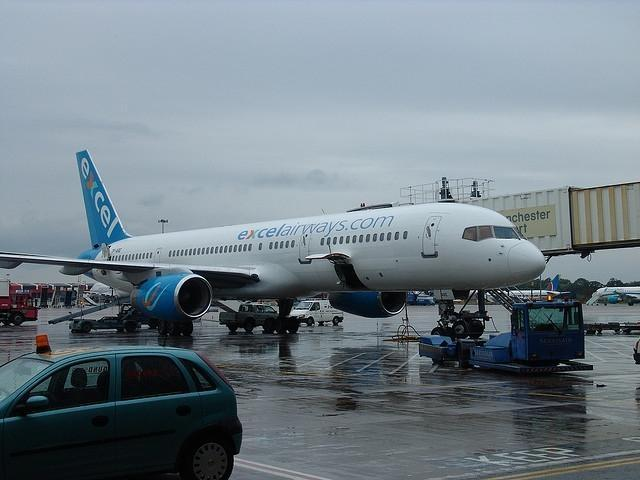car: (1, 349, 246, 474), (218, 300, 300, 333), (291, 300, 343, 326)
truck: (218, 303, 302, 333), (1, 280, 38, 328), (290, 300, 344, 326)
